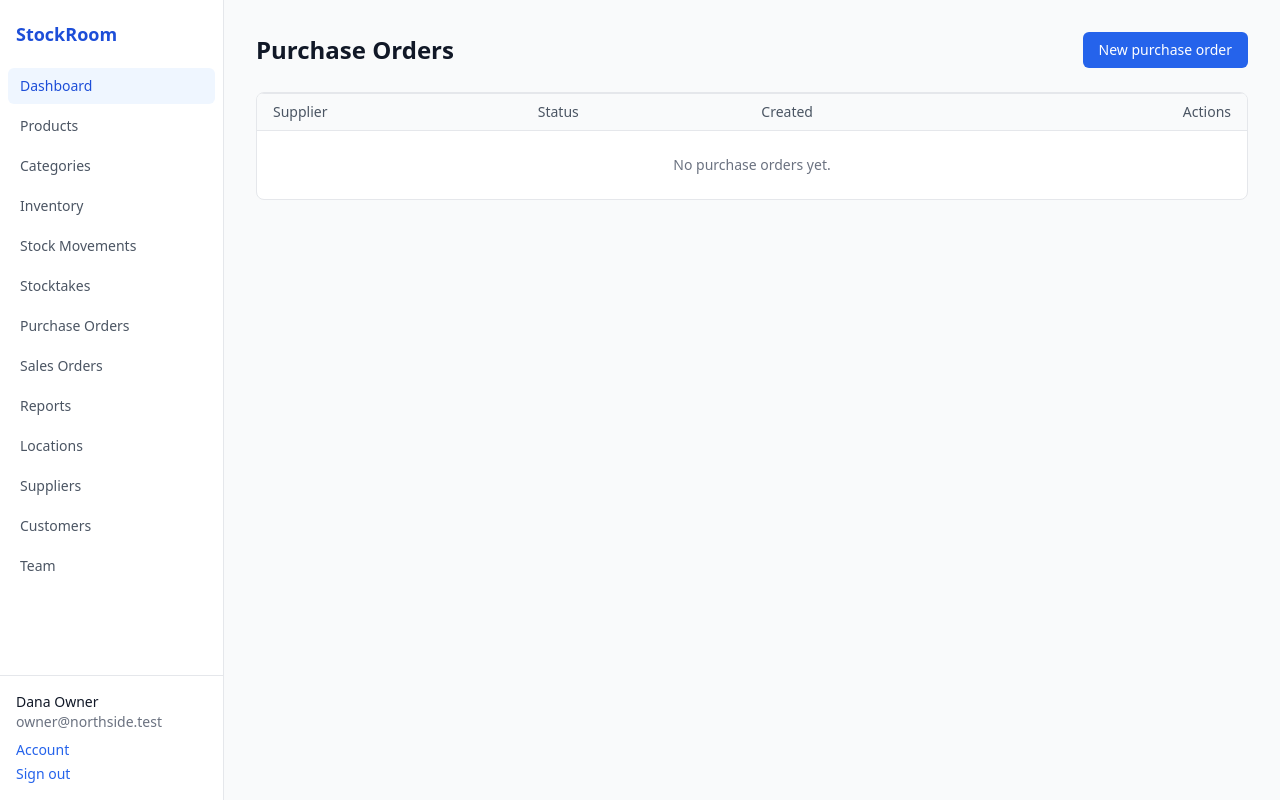
Test: PurchaseOrdersPage create form (Owner-only) › closes the form and resets its lines on success
Expected: the text "No purchase orders yet." is shown, [257,130,1247,199]
Click the button "New purchase order": (1165, 50) [1083,32,1248,68]
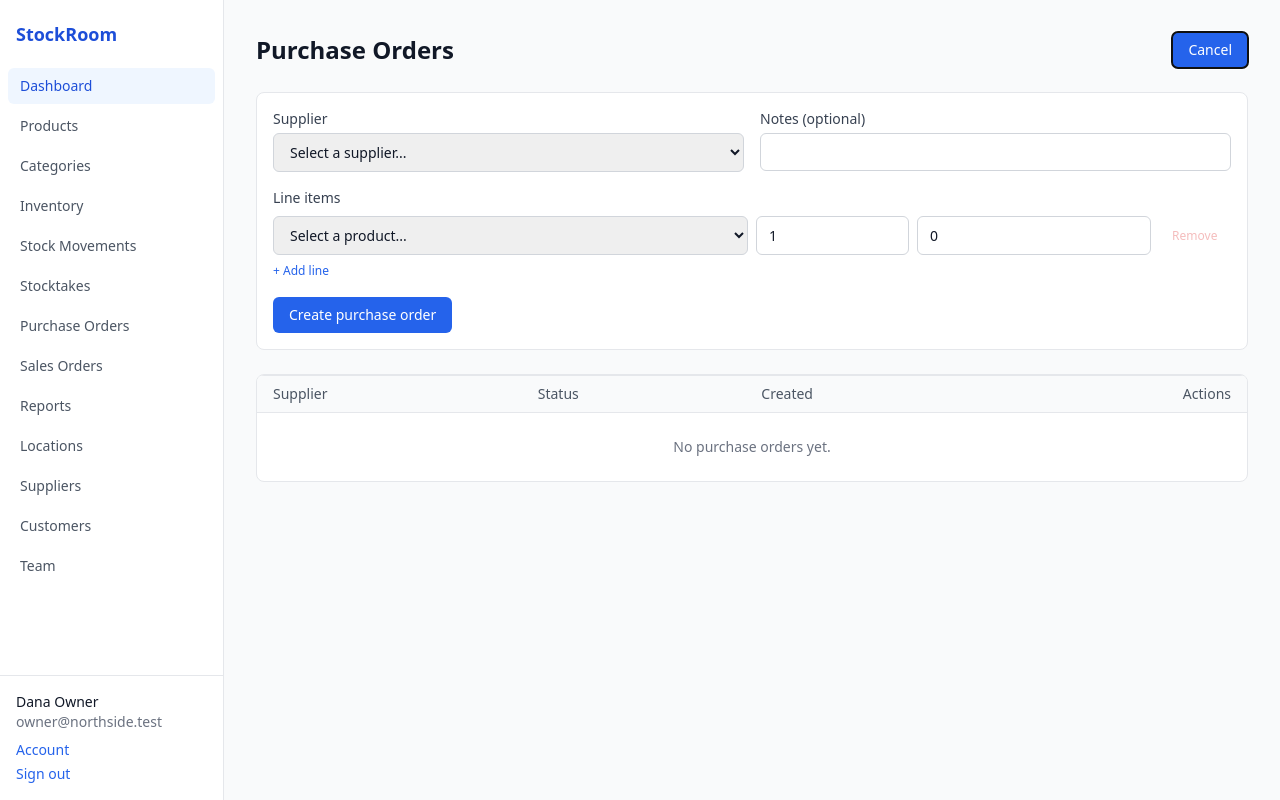
Select "Acme Supplies" in the dropdown labelled "Supplier": (508, 152) [273,133,744,172]
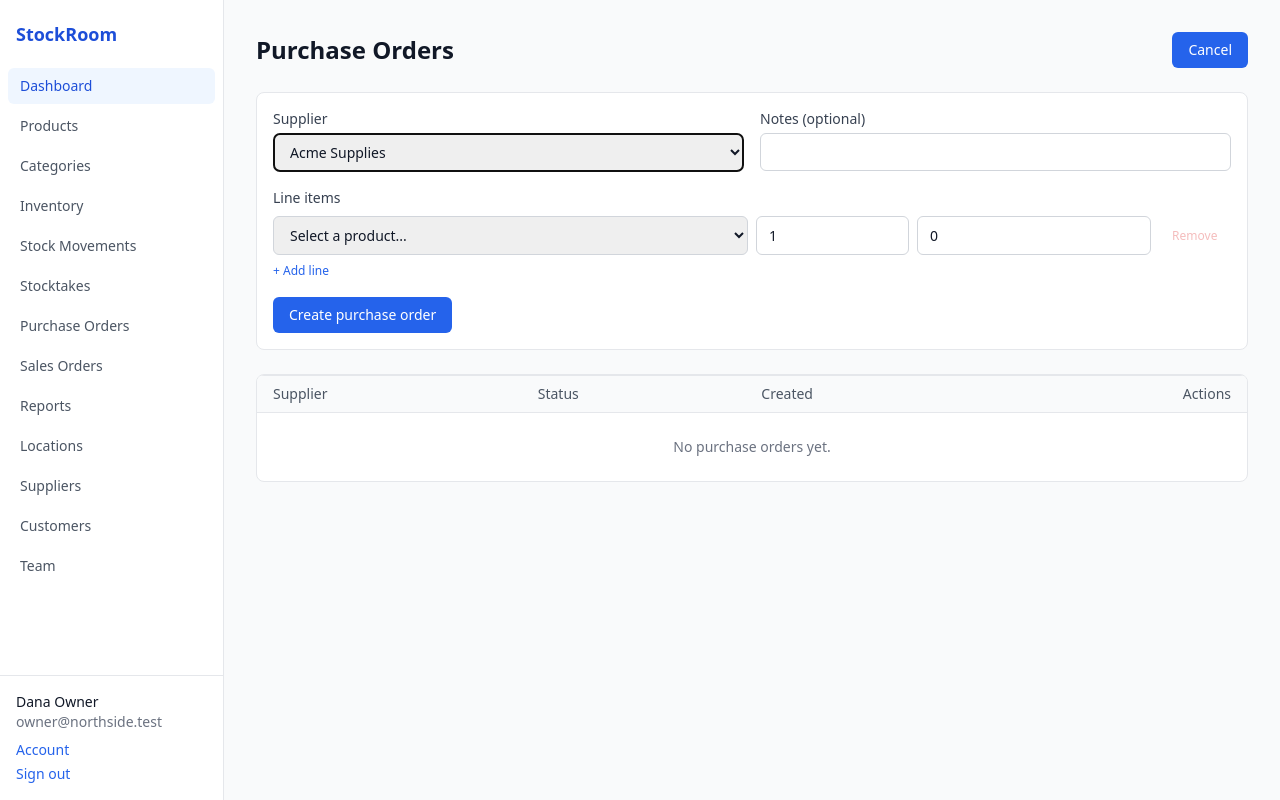
Select "Widget (WID-1)" in the 2nd dropdown: (510, 236) [273,216,748,255]
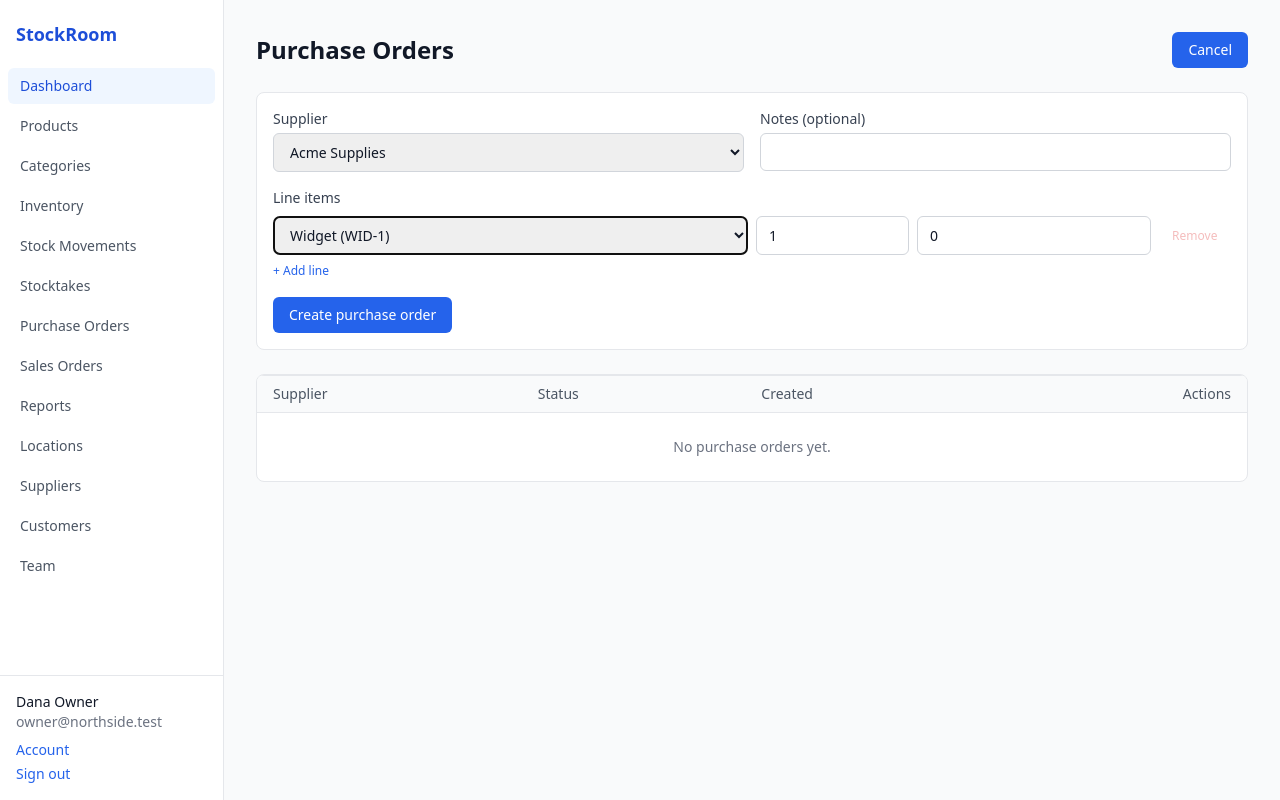
Click the button "Create purchase order": (363, 315) [273,297,452,333]
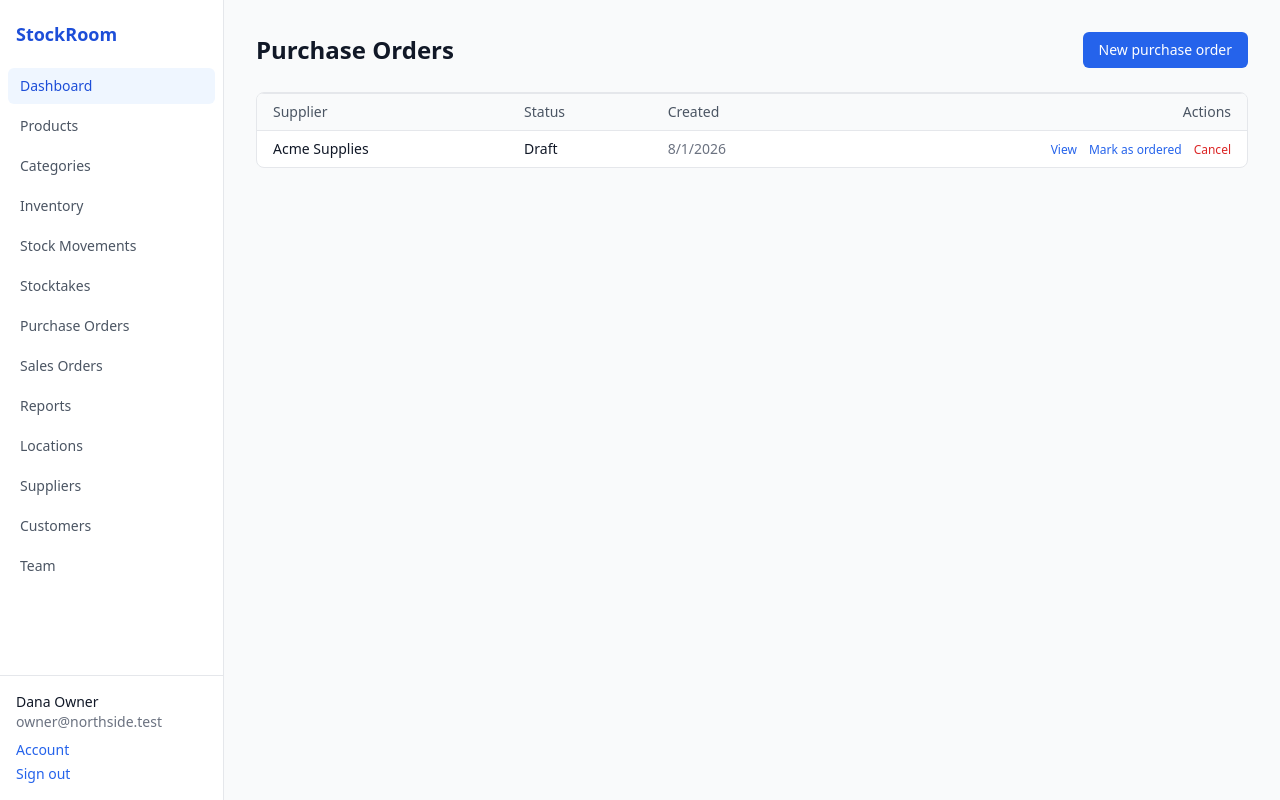
Now the text "Acme Supplies" is shown, box [257,130,508,167]
